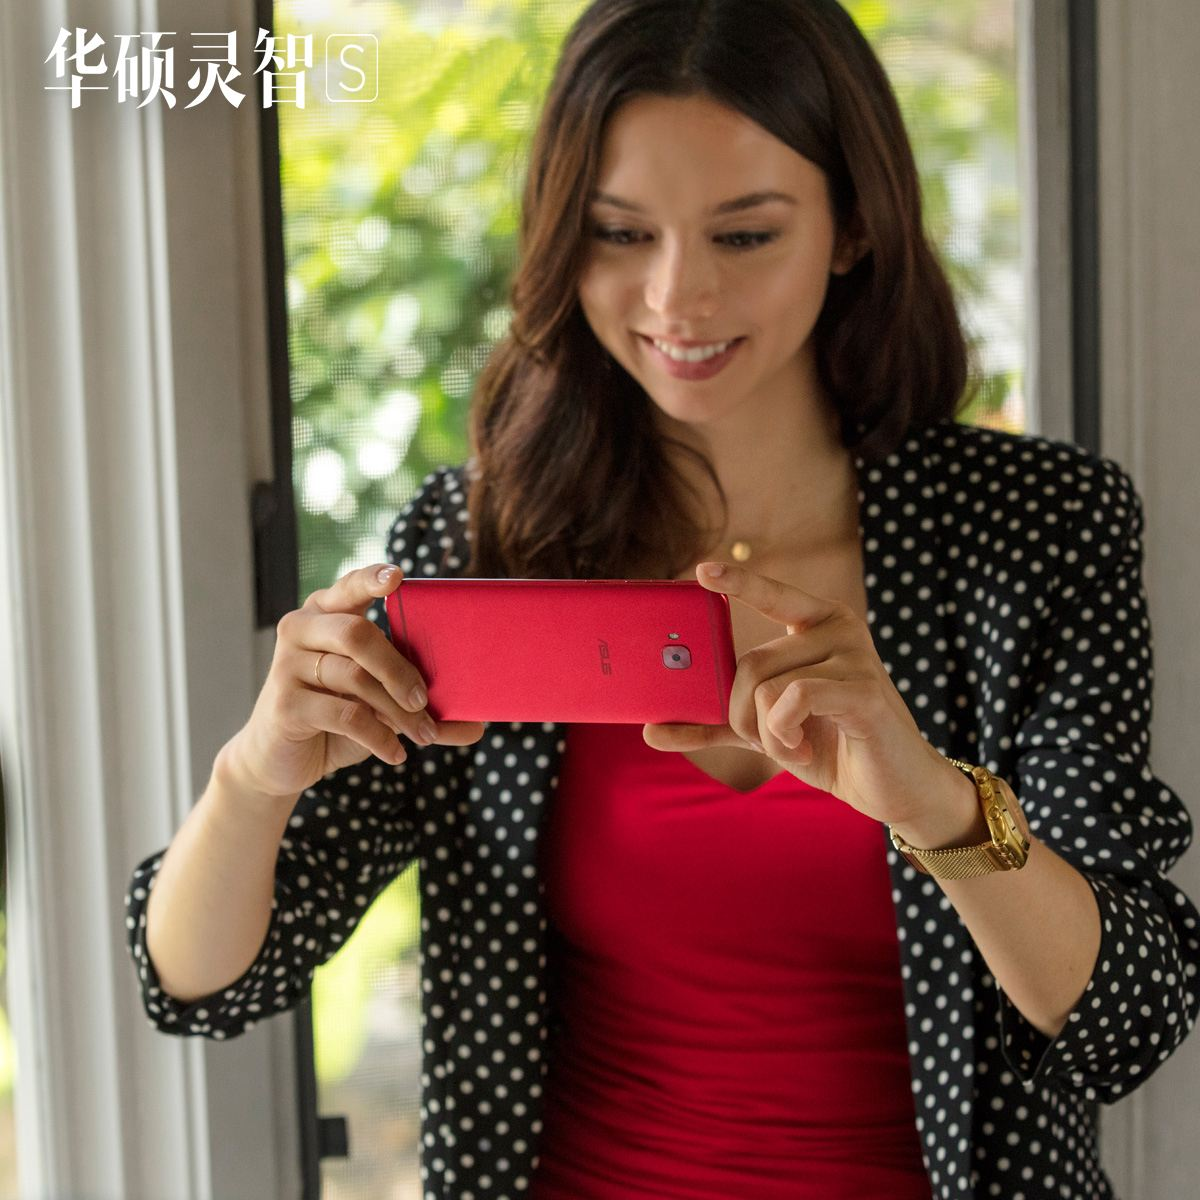taking photos: (229, 542, 958, 838)
